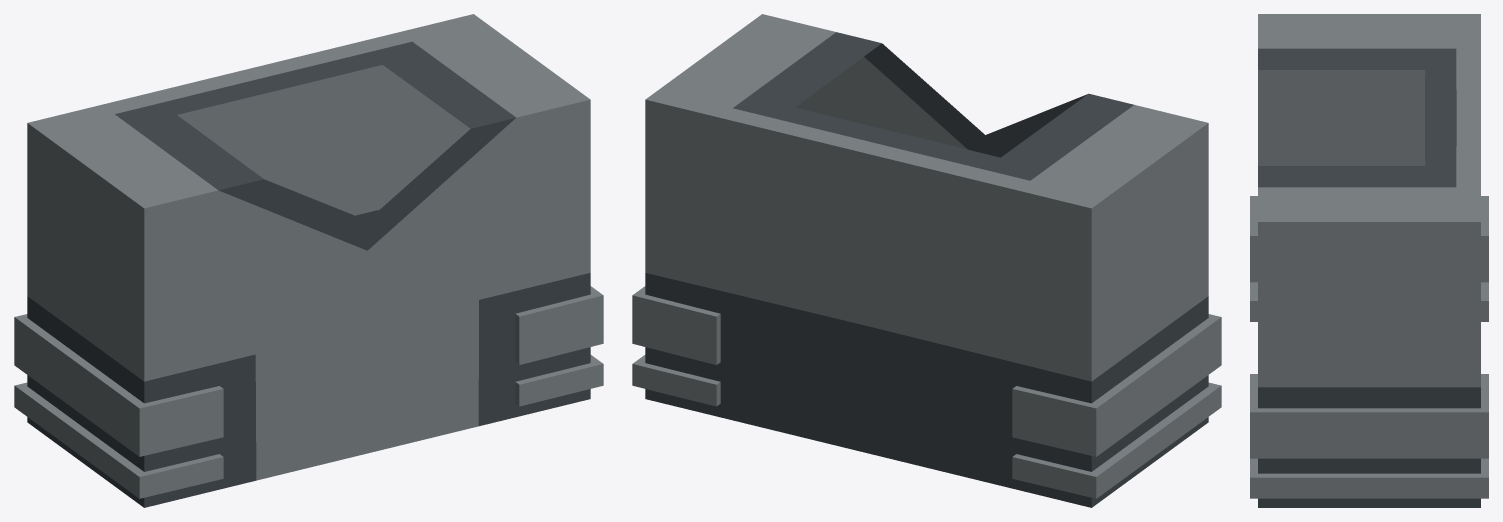
Rendered from Armor 06.FBX.
The picture shows the model from 3 angles, left to right: view 1: azimuth 30°, elevation 25°; view 2: azimuth 150°, elevation 25°; view 3: azimuth 270°, elevation 25°; orthographic projection. The views are drawn at different scales.
Visible parts, largest first — view 1: Armor 06; view 2: Armor 06; view 3: Armor 06.
Part boxes in pixels (left/top/right/bottom): Armor 06: left=14, top=14, right=603, bottom=507; Armor 06: left=632, top=14, right=1221, bottom=507; Armor 06: left=1250, top=14, right=1488, bottom=507.
Size of the model in its own units: 50.34 by 31.05 by 23.5.
1 material, 1 textured.
